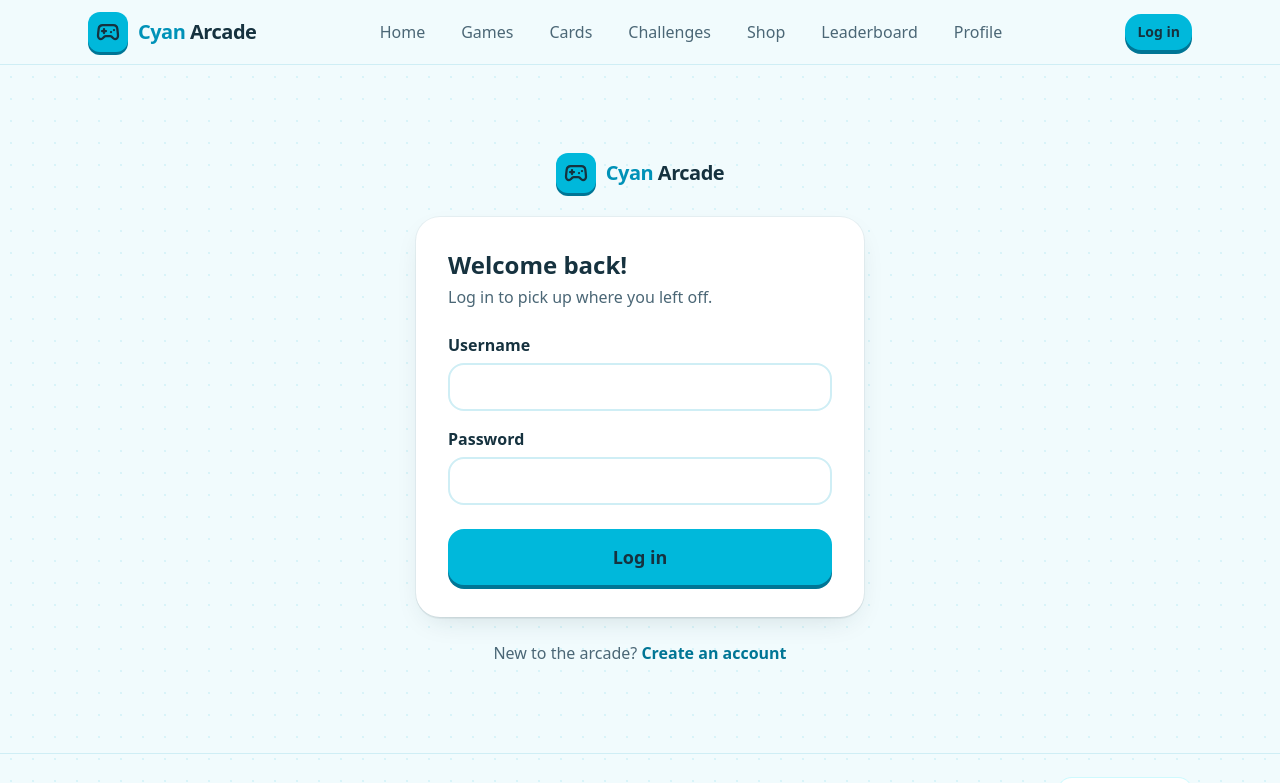
Test: logging in › signs the player in and takes them to their profile
Type "pixel" into the field labelled "Username". click: point(640, 387)
box: x1=448 y1=363 x2=832 y2=411
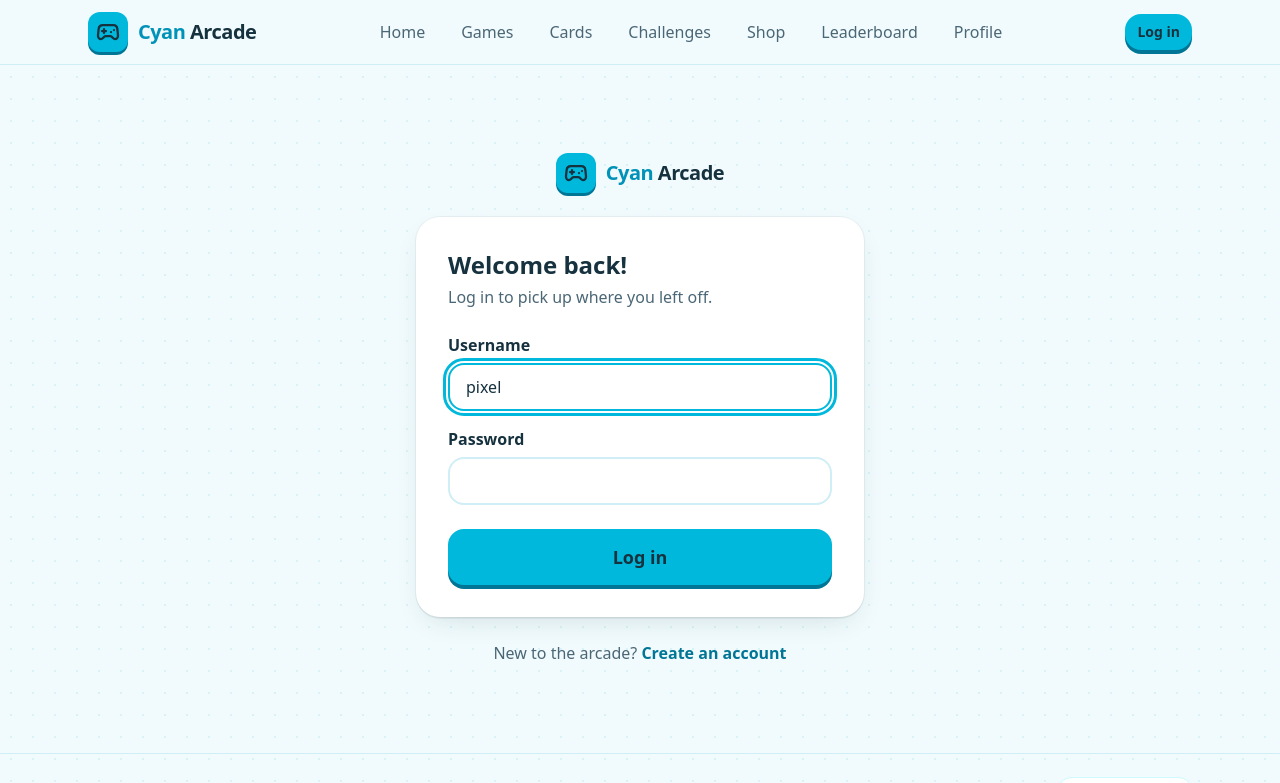
Type "correct-horse-battery" into the password field labelled "Password". click: point(640, 481)
box: x1=448 y1=457 x2=832 y2=505
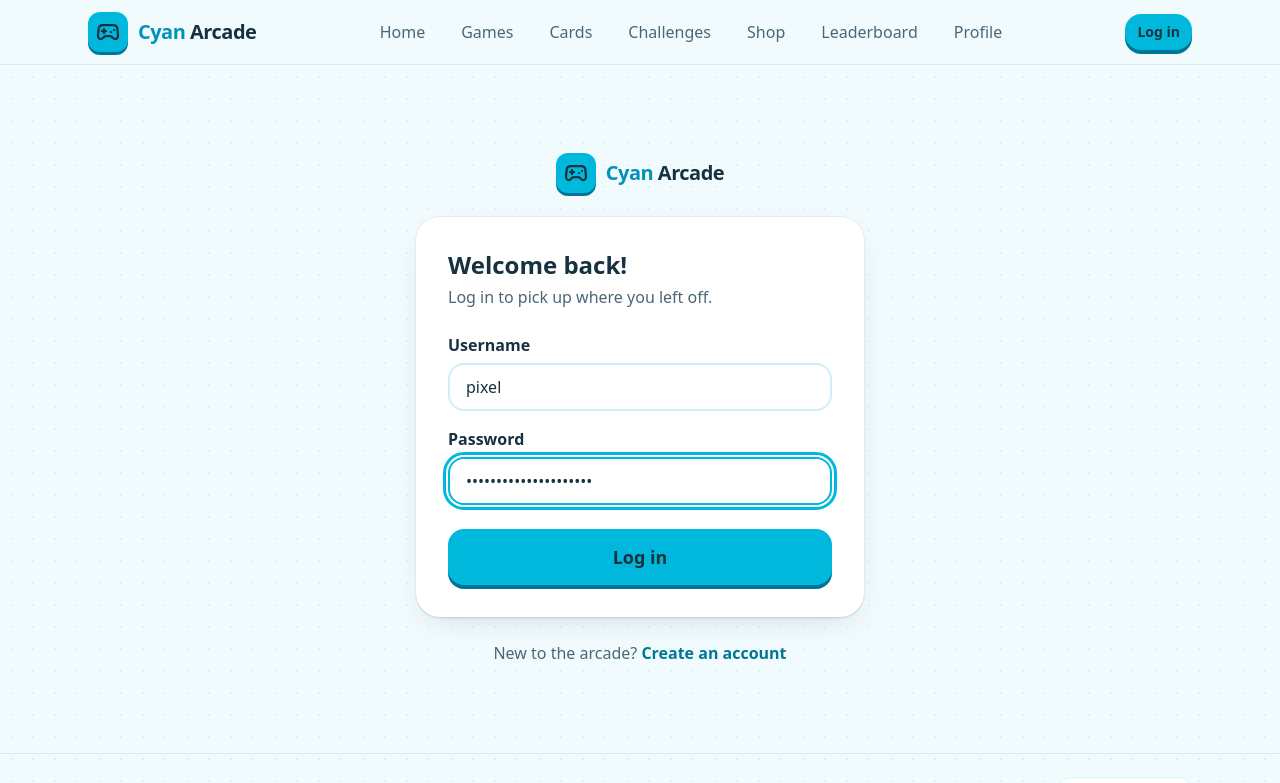
Click the button "Log in". click: point(640, 557)
box: x1=448 y1=529 x2=832 y2=585
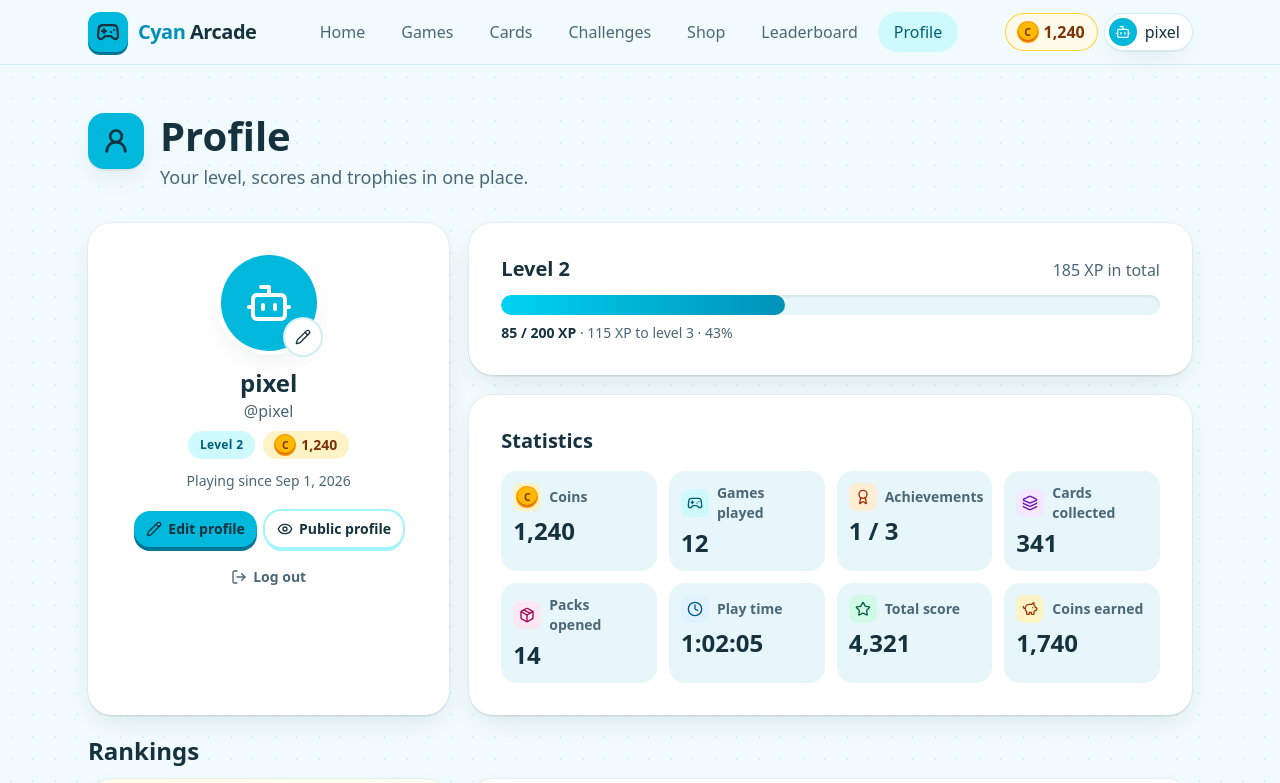
Expected: the heading "Profile" is shown, x1=160 y1=108 x2=291 y2=163
Expected: the heading "pixel" is shown, x1=240 y1=367 x2=297 y2=399
Expected: the link "Log in" is gone
